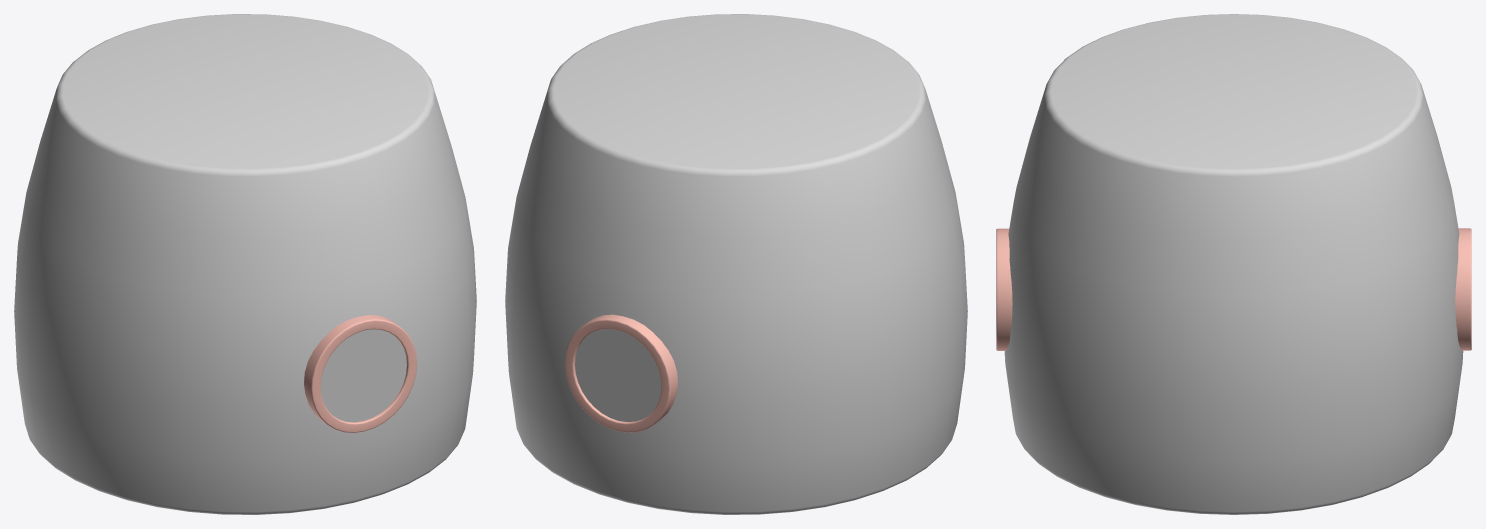
Rendered from RocketMid.glb.
3 renders of one model, left to right at view 1: azimuth 30°, elevation 25°; view 2: azimuth 150°, elevation 25°; view 3: azimuth 270°, elevation 25°, orthographic.
Visible parts, largest first — view 1: Cylinder.011; view 2: Cylinder.011; view 3: Cylinder.011.
Boxes of the visible parts, left/top/right/bottom form: Cylinder.011: left=14, top=14, right=476, bottom=514; Cylinder.011: left=505, top=14, right=967, bottom=514; Cylinder.011: left=996, top=14, right=1471, bottom=514.
Bounding box in the file's own units: 0.353 × 0.2792 × 0.3625.
